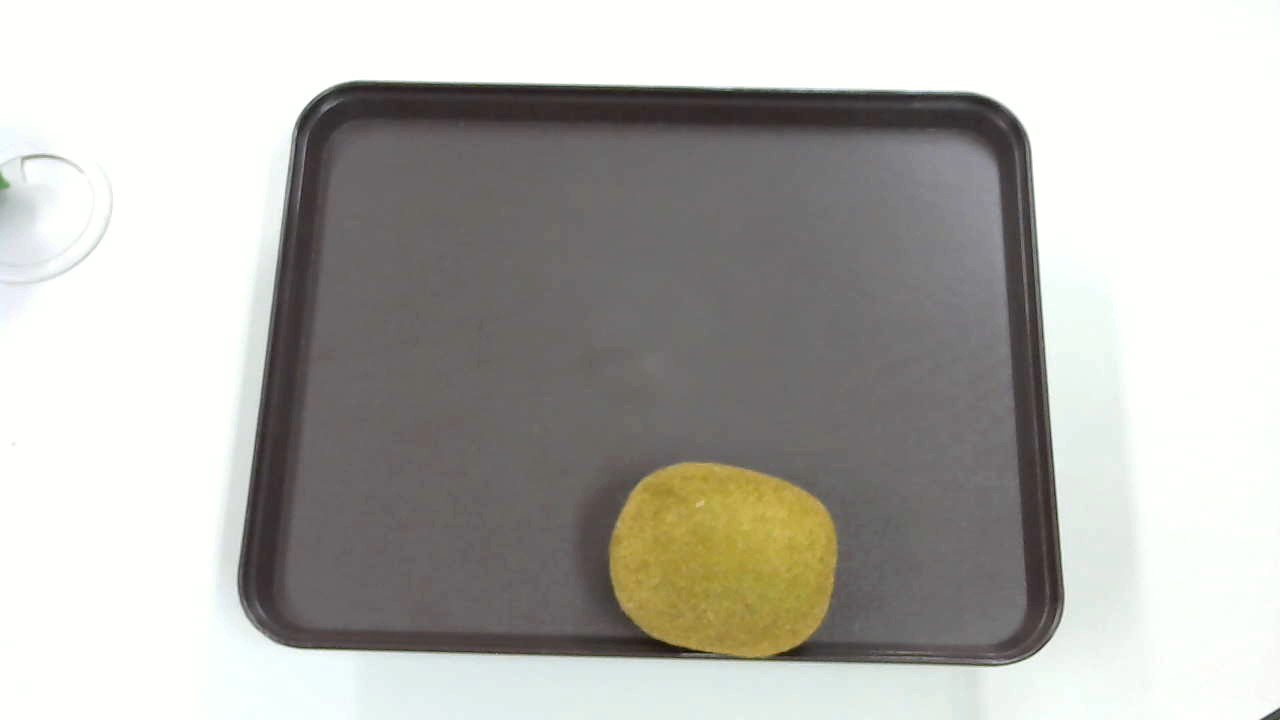mangosteen: (600, 459, 844, 663)
